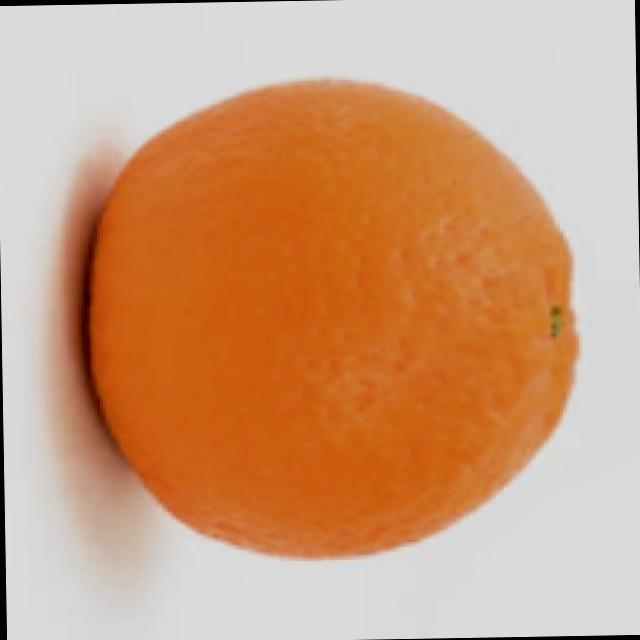orange: (47, 61, 597, 584)
